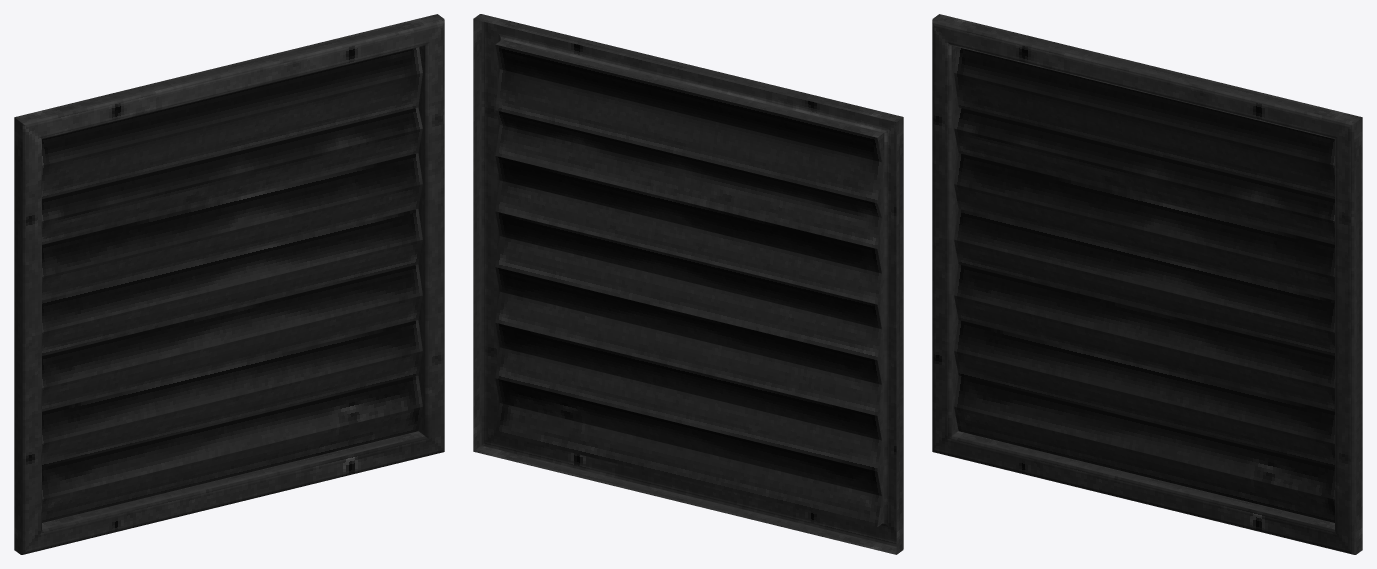
Rendered from vent_1.glb.
3 views of the same model, side by side, from view 1: azimuth 30°, elevation 25°; view 2: azimuth 150°, elevation 25°; view 3: azimuth 330°, elevation 25° (orthographic).
Parts seen in each view (by area): view 1: vent_1; view 2: vent_1; view 3: vent_1.
Boxes of the visible parts, x1,y1,x2,y2 form: vent_1: [14, 14, 444, 554]; vent_1: [473, 14, 903, 554]; vent_1: [932, 14, 1362, 554].
Bounding box in the file's own units: 0.8192 × 0.8 × 0.03.
1 material, 1 textured.
